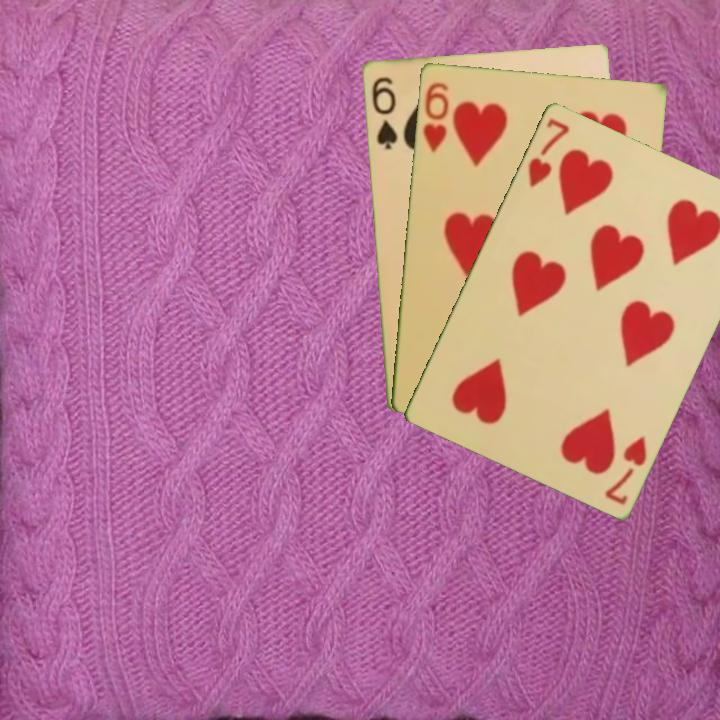6h: (419, 78, 452, 155)
6s: (368, 73, 400, 152)
7h: (601, 432, 650, 507), (524, 114, 572, 190)
